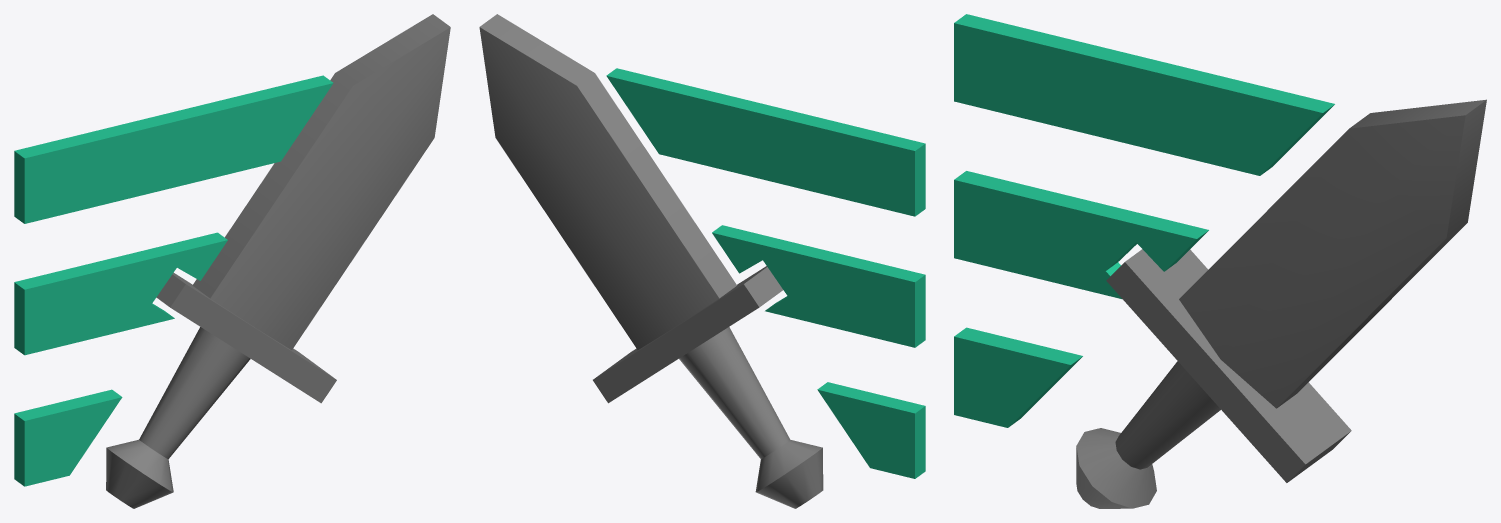
Rendered from SM_ICON_Attack_Speed.fbx.
The picture shows the model from 3 angles, left to right: view 1: azimuth 30°, elevation 25°; view 2: azimuth 150°, elevation 25°; view 3: azimuth 330°, elevation 25°; orthographic projection. The views are drawn at different scales.
Parts seen in each view (by area): view 1: Attack_Speed_Icon; view 2: Attack_Speed_Icon; view 3: Attack_Speed_Icon.
Boxes of the visible parts, x1,y1,x2,y2 form: Attack_Speed_Icon: (14, 14, 450, 508); Attack_Speed_Icon: (479, 14, 925, 508); Attack_Speed_Icon: (954, 14, 1486, 508).
Bounding box in the file's own units: 49.35 × 45.33 × 8.18.
